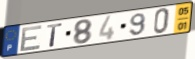0: (154, 7, 173, 35)
4: (98, 14, 117, 42)
8: (72, 18, 94, 45)
9: (128, 12, 149, 37)
E: (19, 24, 44, 53)
T: (46, 22, 64, 48)
